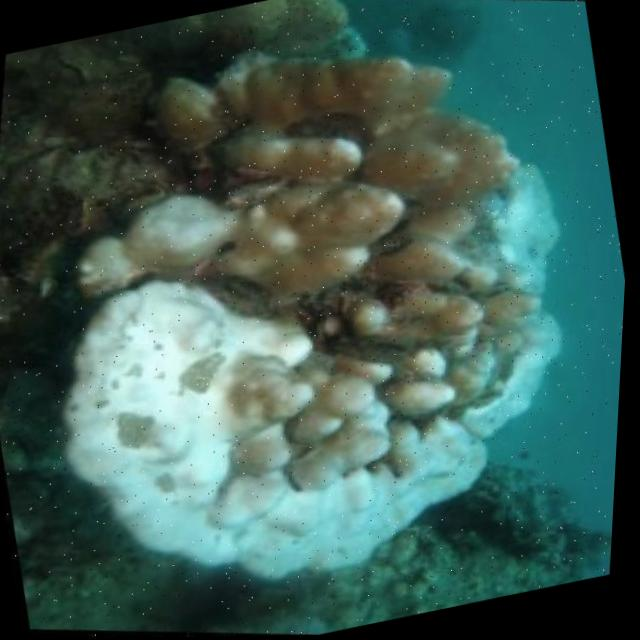Bleached Coral: (0, 6, 634, 632)
